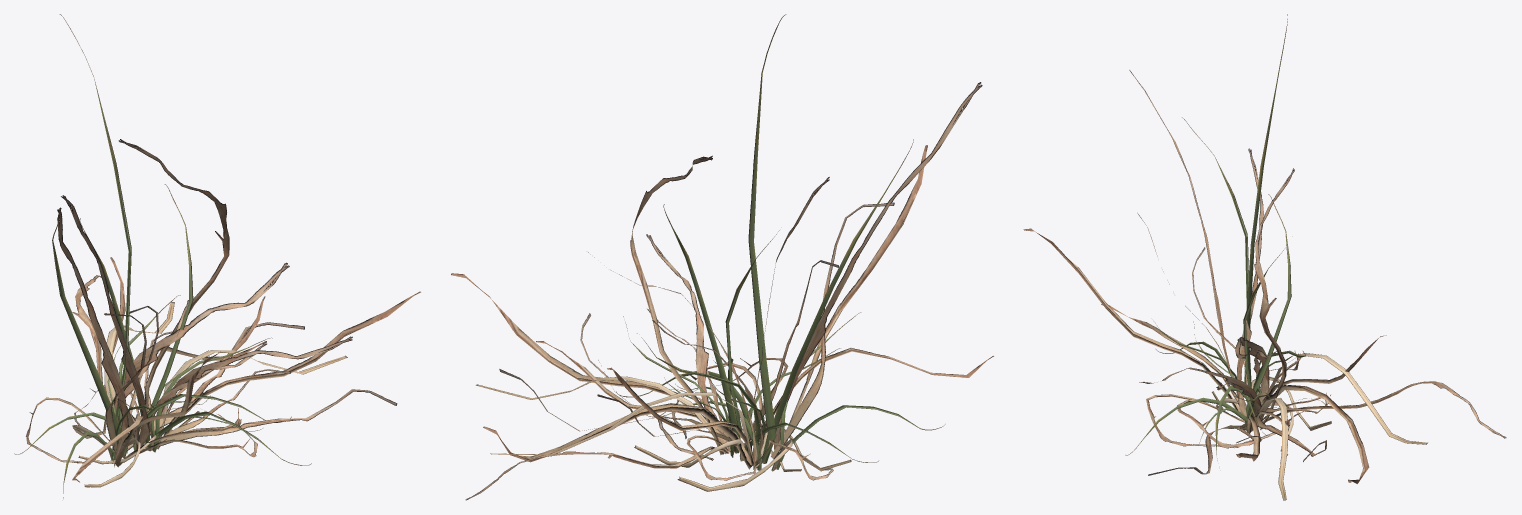
The model's file is UE_grass_medium_02_b.gltf.
The picture shows the model from 3 angles, left to right: view 1: azimuth 30°, elevation 25°; view 2: azimuth 150°, elevation 25°; view 3: azimuth 270°, elevation 25°; orthographic projection. The views are drawn at different scales.
Visible parts, largest first — view 1: grass_medium_02_b; view 2: grass_medium_02_b; view 3: grass_medium_02_b.
Boxes of the visible parts, left/top/right/bottom form: grass_medium_02_b: left=14, top=14, right=420, bottom=498; grass_medium_02_b: left=451, top=14, right=993, bottom=500; grass_medium_02_b: left=1023, top=14, right=1506, bottom=500.
Bounding box in the file's own units: 0.1791 × 0.1796 × 0.1993.
Materials: 1 (1 with a texture image).
